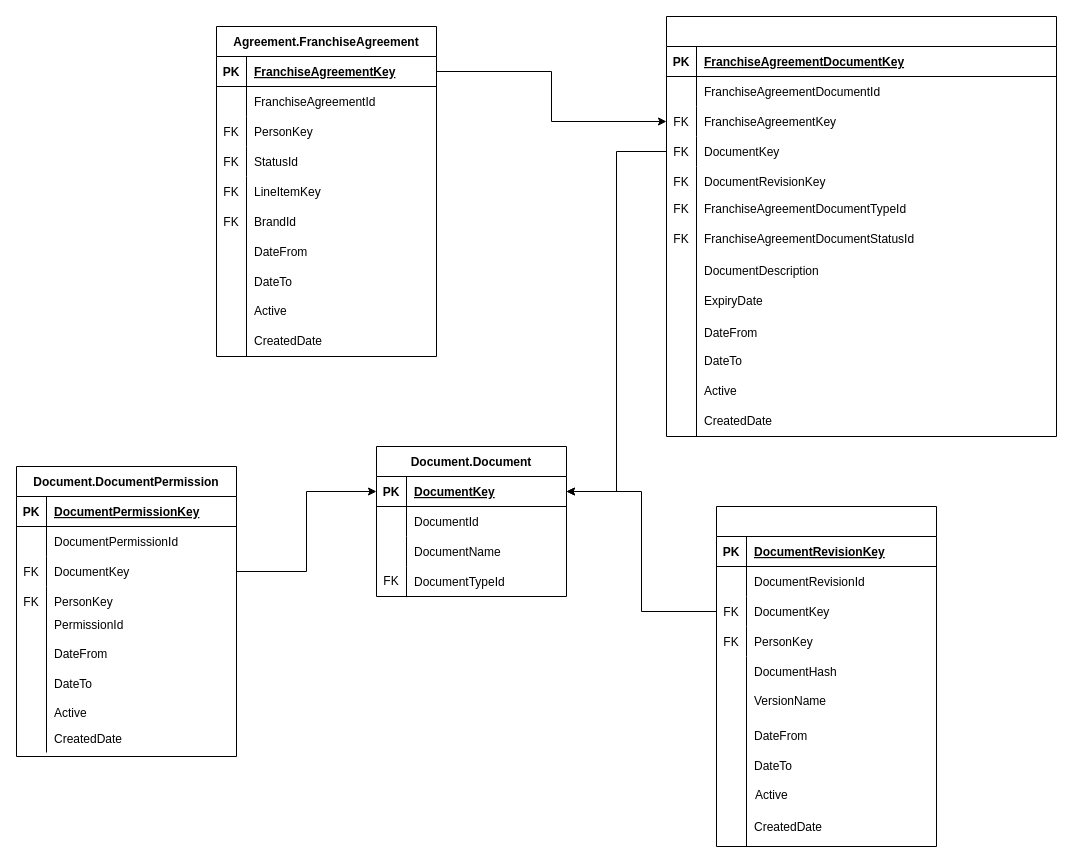
This 1073x863 diagram has some shape labels left out. Each missing label, with the box of its shape:
Agreement.FranchiseAgreementDocument: (666, 16, 1056, 436)
Document.DocumentRevision: (716, 506, 936, 846)
